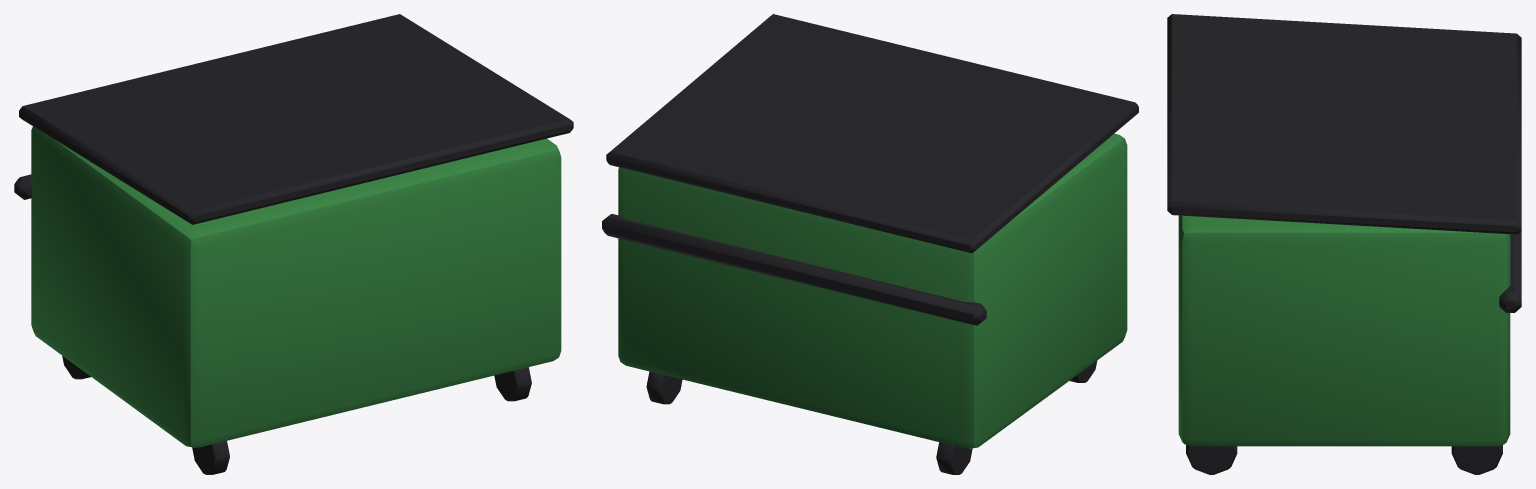
The model's file is Dumpster.fbx.
3 views of the same model, side by side, from view 1: azimuth 30°, elevation 25°; view 2: azimuth 150°, elevation 25°; view 3: azimuth 270°, elevation 25° (orthographic). The views are drawn at different scales.
Visible parts, largest first — view 1: Dumpster; view 2: Dumpster; view 3: Dumpster.
Boxes of the visible parts, bbox=[...] form: Dumpster: bbox=[14, 14, 573, 474]; Dumpster: bbox=[602, 14, 1138, 474]; Dumpster: bbox=[1167, 14, 1521, 474].
Size of the model in its own units: 2.1 by 1.44 by 1.6.
